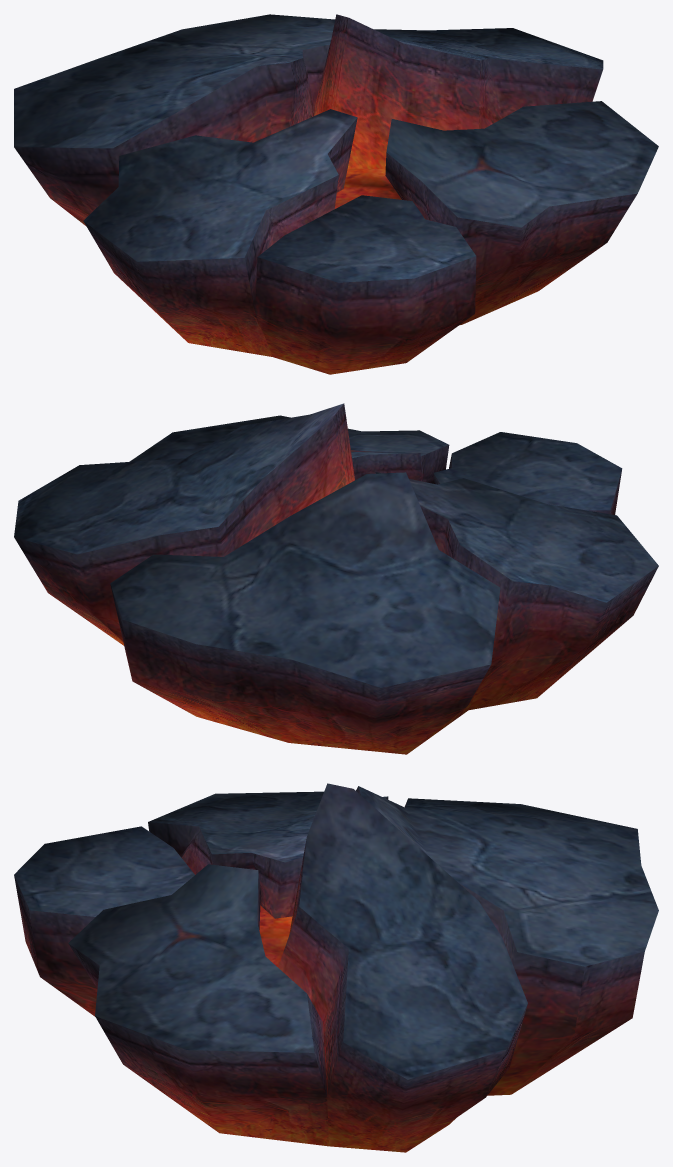
File: Vo_N_Fissure02.FBX
3 renders of one model, top to bottom at view 1: azimuth 30°, elevation 25°; view 2: azimuth 150°, elevation 25°; view 3: azimuth 270°, elevation 25°, orthographic. The views are drawn at different scales.
Parts seen in each view (by area): view 1: Vo_N_Fissure02; view 2: Vo_N_Fissure02; view 3: Vo_N_Fissure02.
Part boxes in pixels (x1,y1,x2,y2): Vo_N_Fissure02: (14, 14, 658, 374); Vo_N_Fissure02: (14, 403, 658, 754); Vo_N_Fissure02: (14, 783, 658, 1152).
Bounding box in the file's own units: 482 × 222 × 463.
